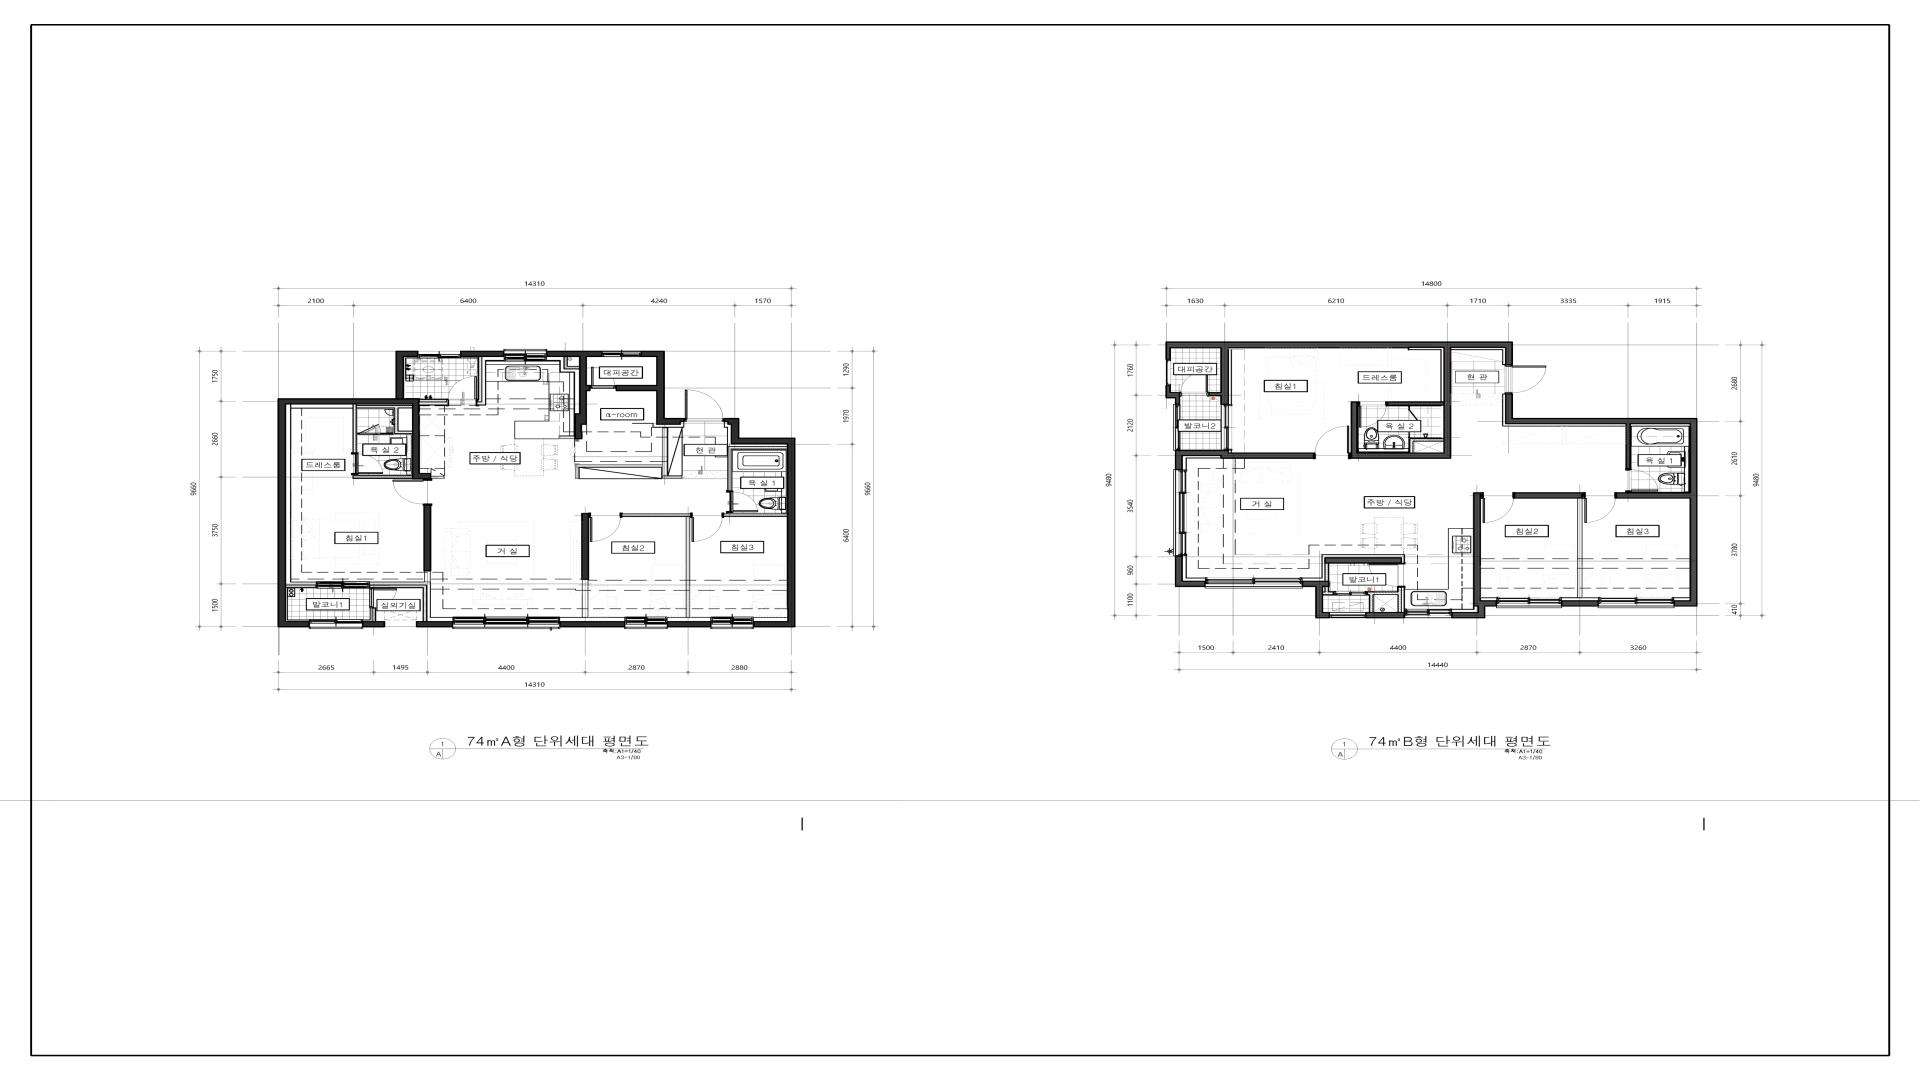door: (684, 388, 724, 423), (1315, 423, 1352, 459), (1505, 365, 1547, 393), (1481, 492, 1515, 524), (1582, 492, 1617, 524), (390, 479, 433, 504), (690, 513, 724, 542), (589, 513, 622, 542), (448, 377, 479, 406), (1367, 564, 1404, 587), (727, 491, 758, 514), (1626, 469, 1659, 492), (351, 452, 384, 475), (1360, 401, 1386, 427), (1182, 372, 1208, 396), (589, 367, 616, 390), (369, 588, 397, 608), (357, 423, 382, 435), (1408, 406, 1422, 423)
wall: (277, 351, 431, 628), (1505, 394, 1697, 607), (1166, 342, 1513, 459), (724, 418, 795, 628), (286, 405, 352, 585), (1452, 492, 1497, 618), (616, 351, 684, 425), (547, 351, 603, 439), (667, 517, 711, 621), (369, 571, 454, 621), (1502, 394, 1625, 427), (1561, 498, 1598, 601), (1303, 554, 1406, 582), (353, 405, 411, 452), (1175, 450, 1313, 469), (560, 580, 625, 621), (727, 447, 787, 491), (369, 585, 427, 621), (546, 357, 580, 414), (1408, 348, 1444, 402), (724, 422, 787, 447), (575, 464, 662, 479), (477, 357, 504, 405), (662, 427, 683, 479), (1302, 582, 1331, 618), (1175, 556, 1205, 587), (1452, 348, 1505, 365), (1367, 587, 1402, 612), (286, 588, 309, 621), (1183, 556, 1205, 580), (582, 514, 589, 580), (423, 506, 431, 571), (1325, 558, 1402, 564), (1183, 456, 1221, 469), (1515, 492, 1582, 498), (559, 621, 625, 628), (460, 351, 504, 357), (667, 621, 711, 628), (622, 513, 691, 517), (1365, 612, 1406, 618), (1166, 385, 1180, 404), (415, 621, 452, 628), (352, 475, 411, 479), (1561, 601, 1598, 607), (563, 357, 579, 369), (479, 357, 483, 402), (724, 514, 787, 517), (653, 422, 684, 427), (363, 621, 385, 628), (1452, 607, 1478, 612), (363, 608, 372, 621), (1324, 587, 1335, 596), (286, 585, 315, 588), (1325, 563, 1329, 582), (419, 400, 447, 402), (419, 402, 447, 405), (1402, 587, 1404, 612), (372, 608, 376, 621), (1481, 597, 1497, 600), (1675, 597, 1689, 600), (431, 476, 444, 479)
window: (454, 616, 560, 629), (1172, 469, 1187, 555), (1205, 578, 1302, 588), (1598, 597, 1675, 608), (1497, 597, 1561, 608), (1220, 405, 1233, 450), (625, 617, 667, 629), (711, 617, 753, 629), (504, 349, 546, 361), (309, 620, 363, 629), (1406, 609, 1451, 618), (316, 582, 369, 588), (418, 351, 460, 359), (1174, 404, 1180, 450), (603, 351, 641, 357), (1331, 612, 1365, 618), (1335, 591, 1366, 596), (1166, 360, 1171, 385)
